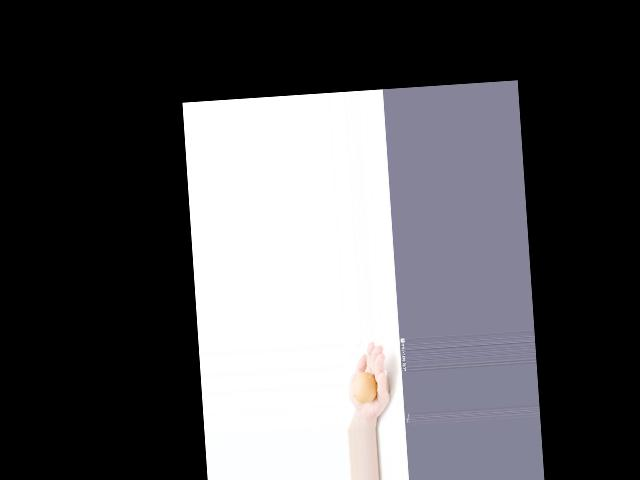egg: (351, 371, 378, 404)
